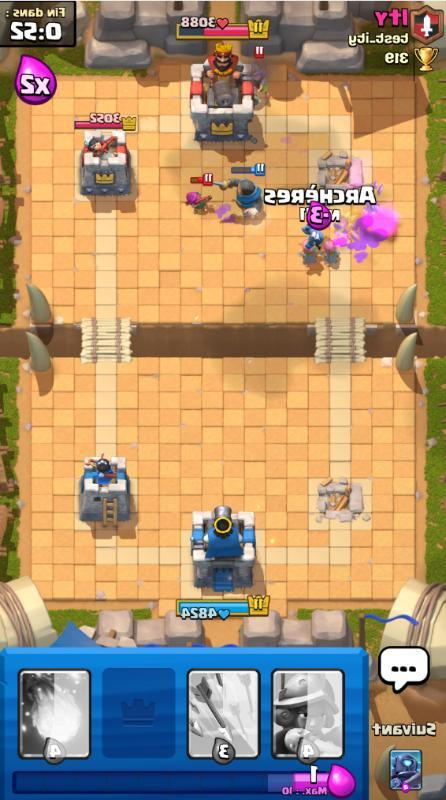archere: (185, 173, 213, 215)
chevalier: (212, 163, 265, 218)
gargouille: (298, 236, 323, 266), (319, 238, 342, 265), (302, 224, 326, 249)
mousquetaire: (250, 46, 270, 106)
